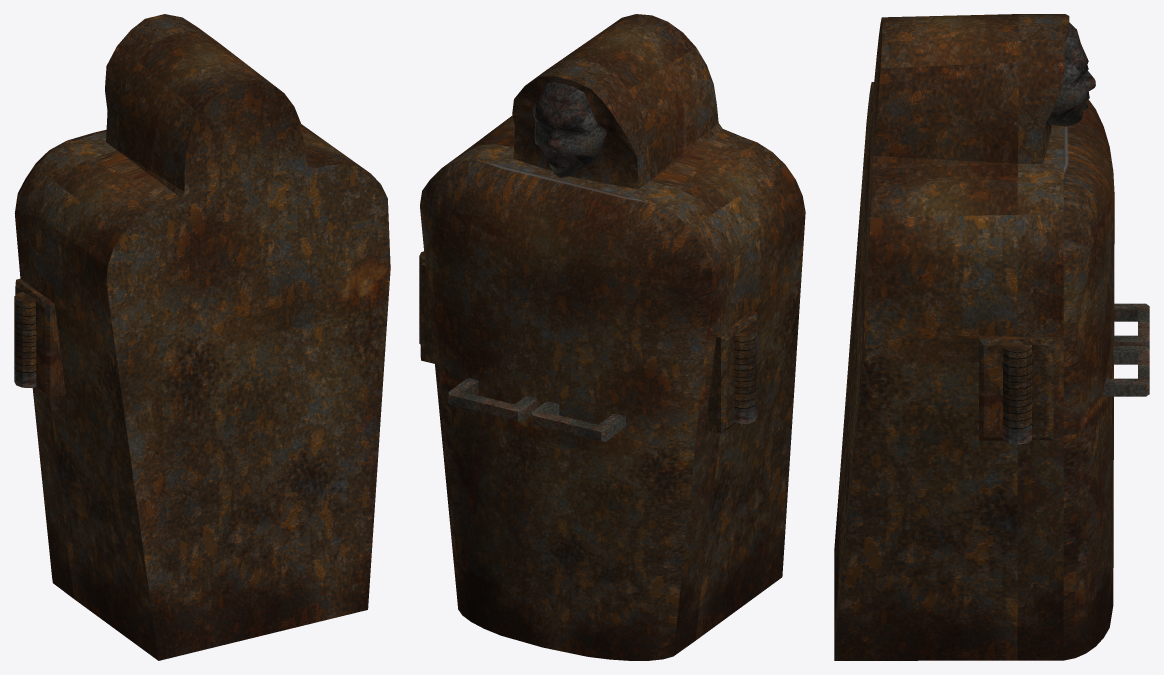
File: IronMaiden.fbx
The picture shows the model from 3 angles, left to right: view 1: azimuth 30°, elevation 25°; view 2: azimuth 150°, elevation 25°; view 3: azimuth 270°, elevation 25°; orthographic projection. The views are drawn at different scales.
Parts seen in each view (by area): view 1: IronMaiden2; view 2: IronMaiden2; view 3: IronMaiden2.
Boxes of the visible parts, x1,y1,x2,y2 form: IronMaiden2: [14, 14, 390, 660]; IronMaiden2: [419, 14, 805, 660]; IronMaiden2: [834, 14, 1149, 660].
Size of the model in its own units: 1.39 by 2.21 by 1.08.
